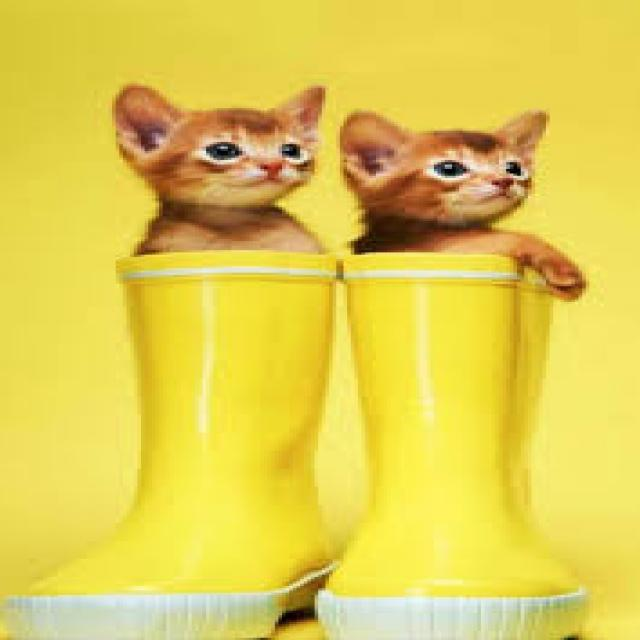Cat: (333, 104, 592, 306), (102, 74, 327, 257)
